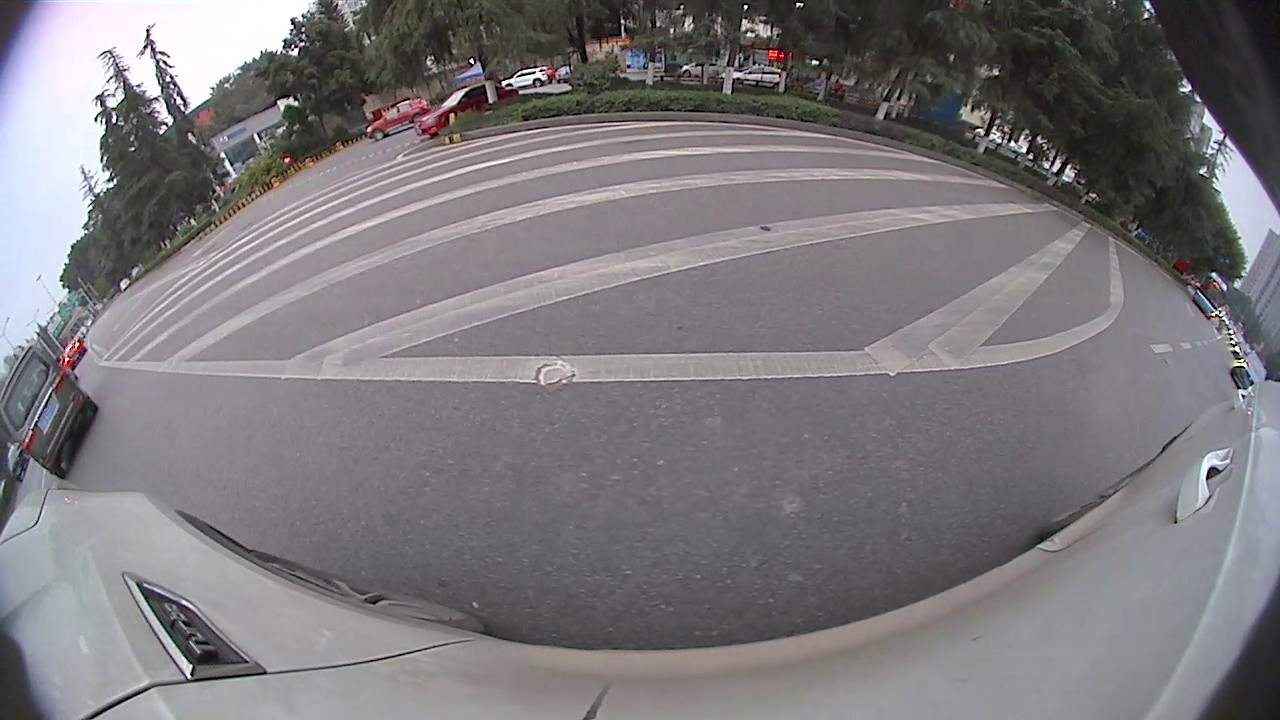car: (230, 78, 495, 212), (770, 72, 944, 184), (8, 285, 108, 401), (1047, 215, 1143, 322), (1165, 355, 1241, 456), (75, 206, 150, 284), (129, 189, 189, 234), (1160, 320, 1199, 365)
front: (376, 134, 423, 186), (905, 152, 932, 184)
rear: (253, 174, 285, 213), (814, 122, 847, 159), (218, 178, 235, 198)
truck: (285, 29, 462, 102)
